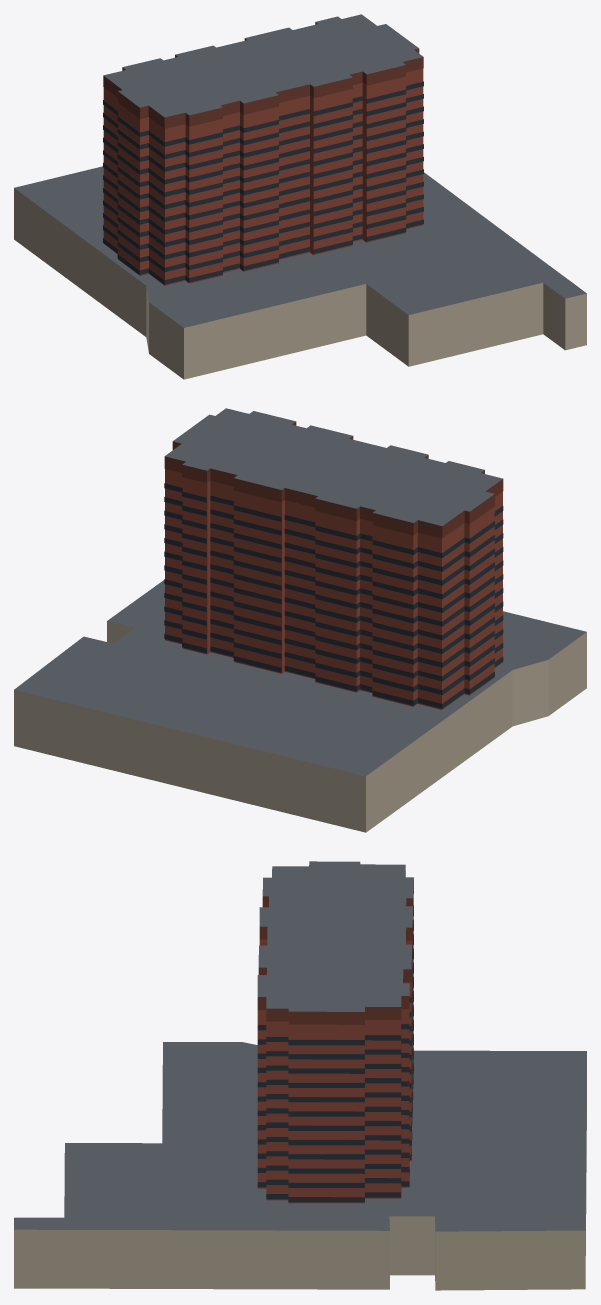
Rendered from little_america_hotel_slc.glb.
3 renders of one model, top to bottom at view 1: azimuth 30°, elevation 25°; view 2: azimuth 150°, elevation 25°; view 3: azimuth 270°, elevation 25°, orthographic. The views are drawn at different scales.
Parts seen in each view (by area): view 1: Little_America_Hotel_Slc; view 2: Little_America_Hotel_Slc; view 3: Little_America_Hotel_Slc.
Boxes of the visible parts, x1,y1,x2,y2 form: Little_America_Hotel_Slc: (14, 14, 586, 379); Little_America_Hotel_Slc: (14, 408, 586, 832); Little_America_Hotel_Slc: (14, 861, 586, 1290).
Bounding box in the file's own units: 93.97 × 57.9 × 120.
